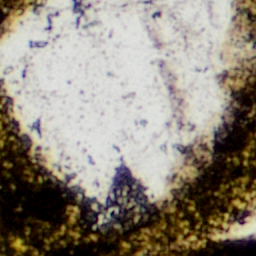cement_matrix: (0, 63, 255, 255), (0, 0, 27, 28), (243, 7, 255, 41), (73, 0, 86, 14), (181, 236, 200, 245), (15, 241, 22, 248), (253, 0, 255, 4)
gravel_crushed_stones: (0, 0, 255, 223), (210, 194, 255, 240), (182, 237, 199, 244), (16, 242, 21, 247)
